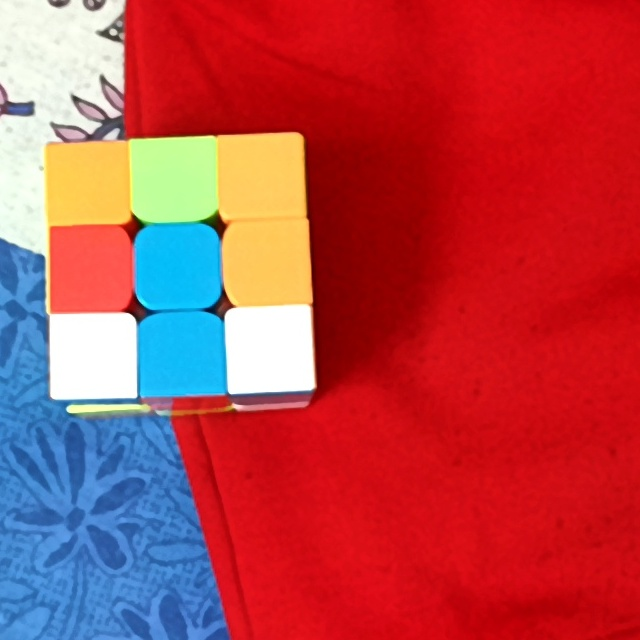tile: (232, 231, 303, 299), (53, 234, 121, 303), (57, 320, 125, 389), (235, 317, 305, 384), (51, 151, 121, 215), (228, 145, 294, 210), (149, 330, 216, 392), (145, 240, 209, 301), (142, 151, 208, 208)
